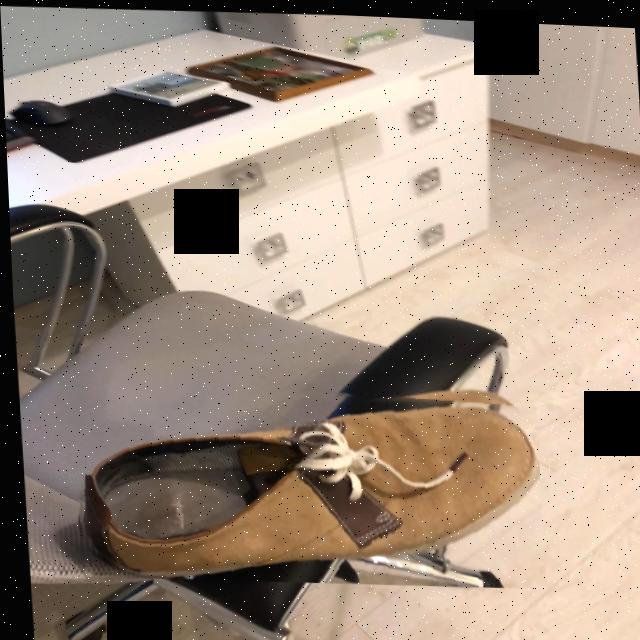shoe: (75, 393, 535, 583)
